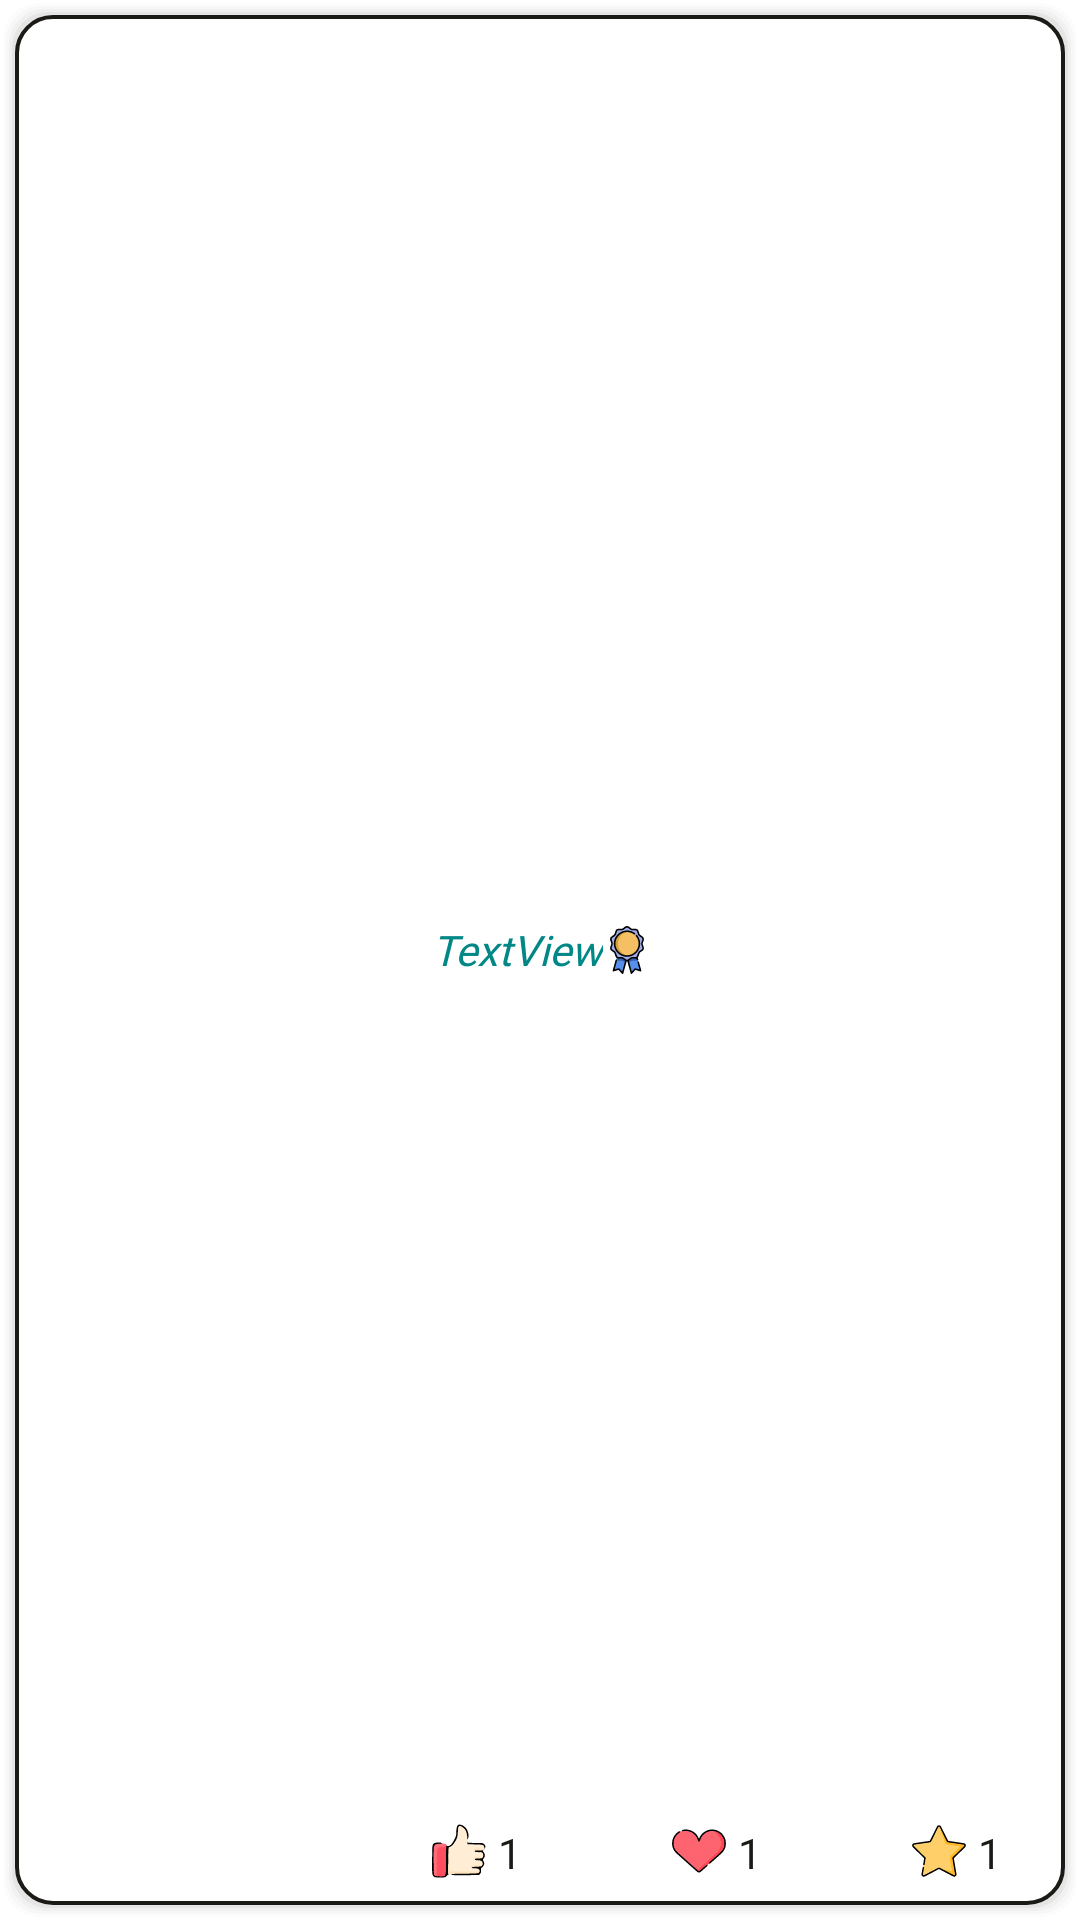

Named icons in this screenshot (1080w x 1920h) and their centers, (x,y):
heart: (699,1851)
reward: (627,950)
star: (939,1851)
thumb: (459,1851)
